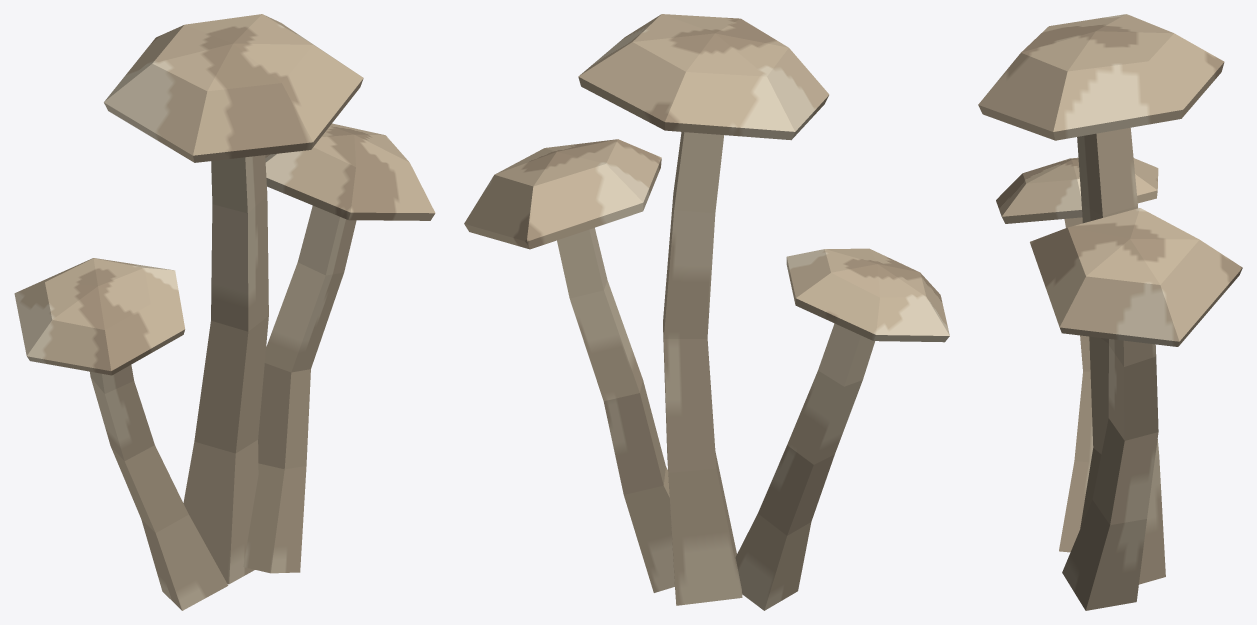
File: SM_SW06_PaleMushroomsTall.fbx
3 views of the same model, side by side, from view 1: azimuth 30°, elevation 25°; view 2: azimuth 150°, elevation 25°; view 3: azimuth 270°, elevation 25° (orthographic). The views are drawn at different scales.
Parts seen in each view (by area): view 1: SW06a_Props; view 2: SW06a_Props; view 3: SW06a_Props.
Boxes of the visible parts, bbox=[...] form: SW06a_Props: bbox=[14, 14, 435, 610]; SW06a_Props: bbox=[464, 14, 949, 610]; SW06a_Props: bbox=[978, 14, 1242, 610].
Size of the model in its own units: 0.2361 by 0.2896 by 0.1261.
